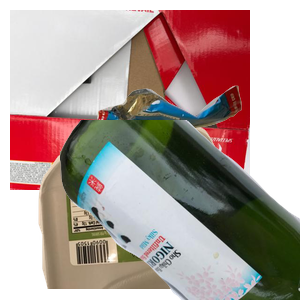cardboard: (10, 10, 250, 190)
glass: (60, 120, 300, 300)
plastic: (36, 120, 265, 300)
trash: (94, 83, 300, 210)
